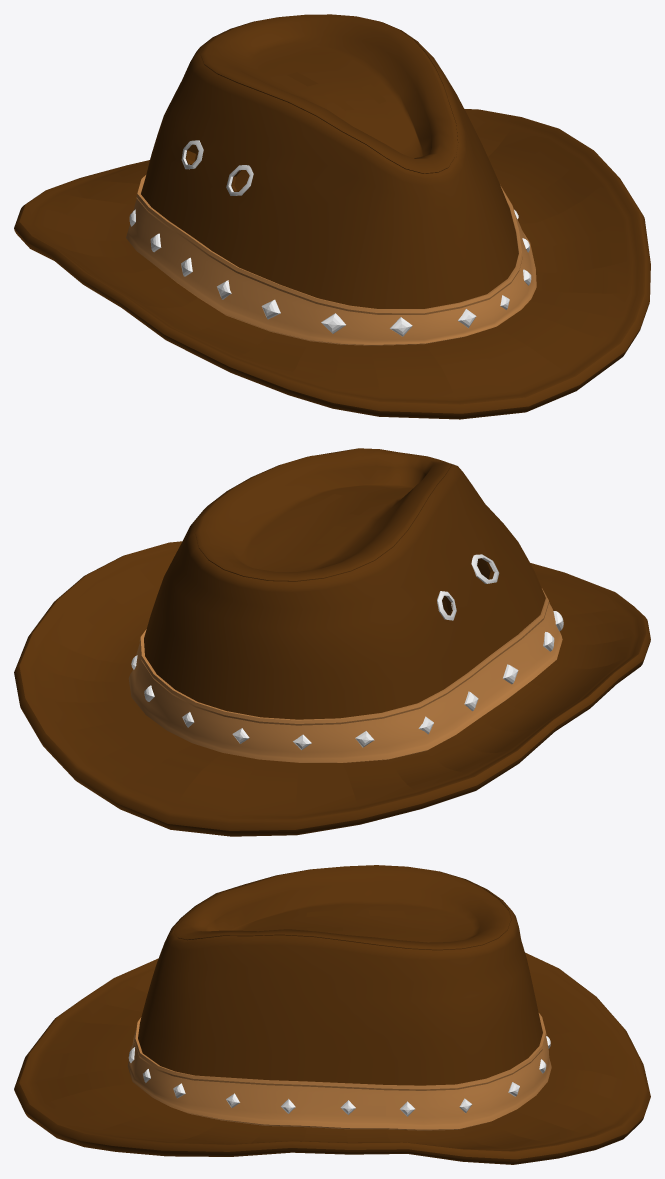
File: Cowboy_Hat.fbx
3 renders of one model, top to bottom at view 1: azimuth 30°, elevation 25°; view 2: azimuth 150°, elevation 25°; view 3: azimuth 270°, elevation 25°, orthographic. The views are drawn at different scales.
Visible parts, largest first — view 1: Cowboy_hat; view 2: Cowboy_hat; view 3: Cowboy_hat.
Boxes of the visible parts, x1,y1,x2,y2 form: Cowboy_hat: (14, 14, 650, 419); Cowboy_hat: (14, 448, 650, 836); Cowboy_hat: (14, 865, 650, 1164).
Bounding box in the file's own units: 75.9 × 32.18 × 89.16.
1 material, 1 textured.
